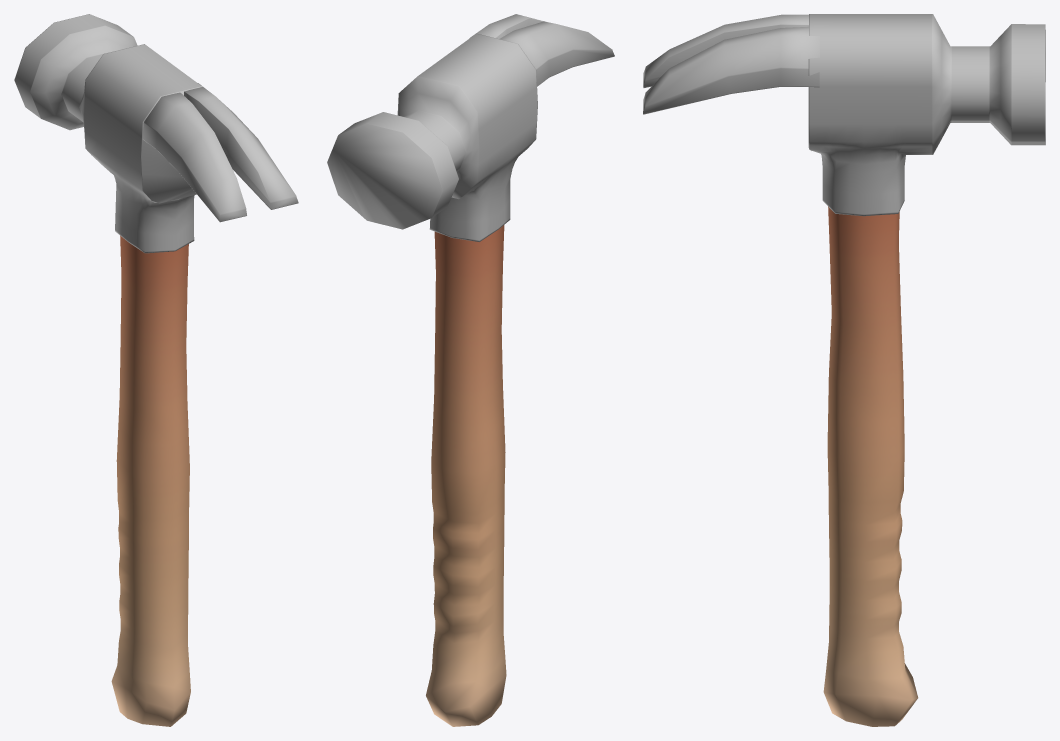
The model's file is toolsHammer.fbx.
3 renders of one model, left to right at view 1: azimuth 30°, elevation 25°; view 2: azimuth 150°, elevation 25°; view 3: azimuth 270°, elevation 25°, orthographic. The views are drawn at different scales.
Visible parts, largest first — view 1: Hammer; view 2: Hammer; view 3: Hammer.
Part boxes in pixels (bbox=[...]): Hammer: bbox=[14, 14, 298, 726]; Hammer: bbox=[327, 14, 614, 726]; Hammer: bbox=[643, 14, 1045, 726].
Size of the model in its own units: 29.6 by 160 by 84.02.
